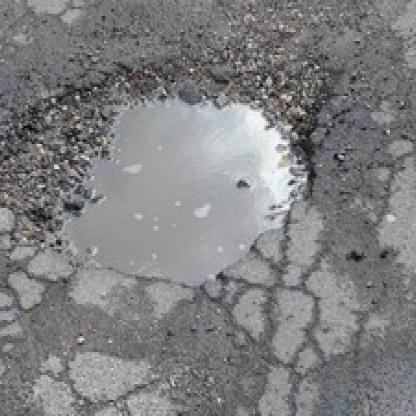pothole: (12, 55, 318, 286)
